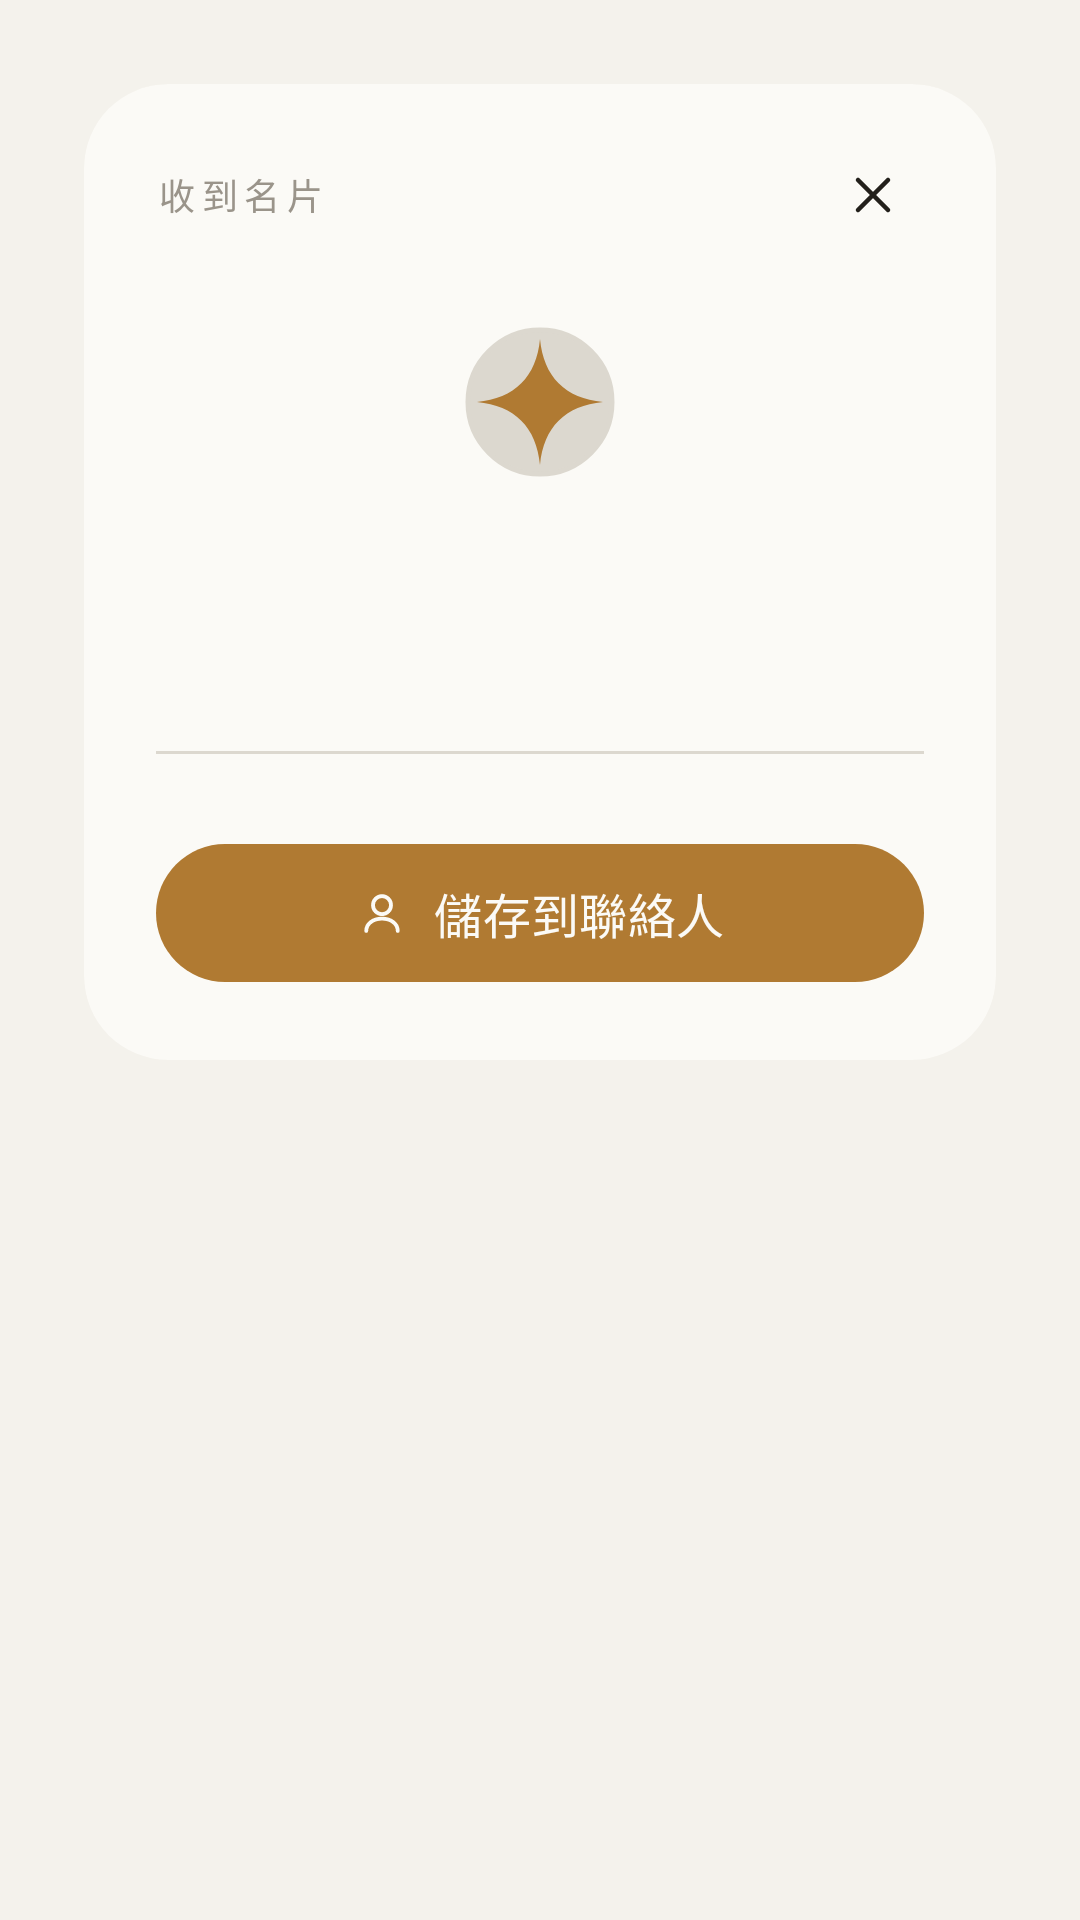

Icons on this 1080x1920 Android screen, each with the point to tap as point (x, y):
關閉: point (873, 195)
